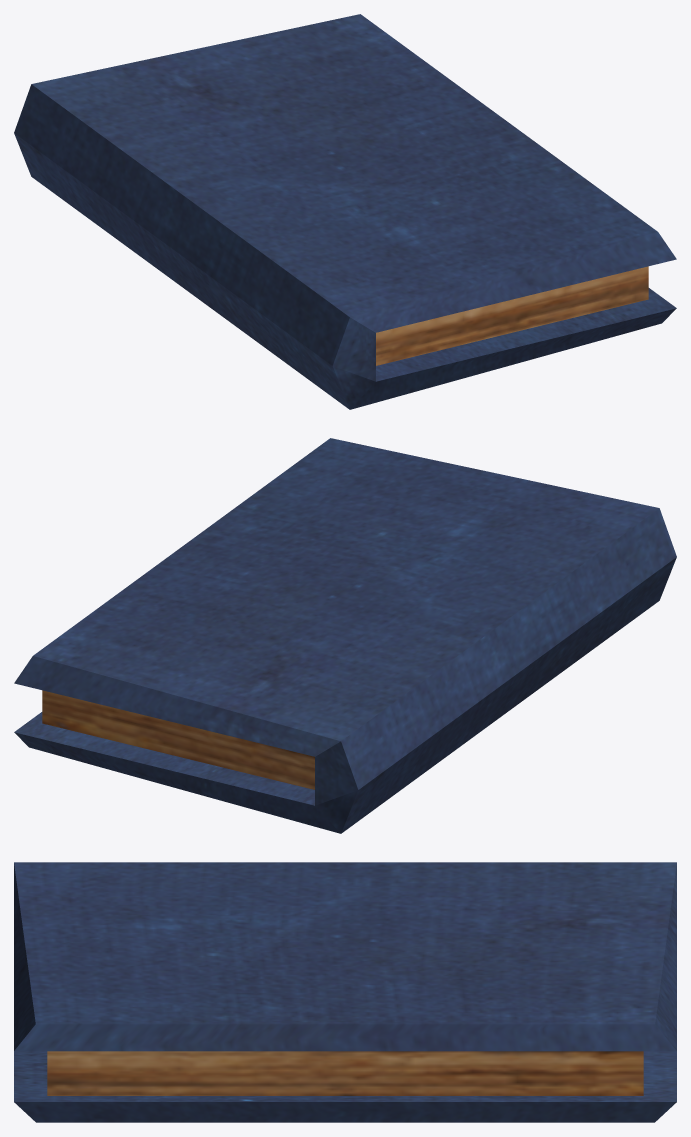
The model's file is bookClosed01.fbx.
3 renders of one model, top to bottom at view 1: azimuth 30°, elevation 25°; view 2: azimuth 150°, elevation 25°; view 3: azimuth 270°, elevation 25°, orthographic. The views are drawn at different scales.
Parts seen in each view (by area): view 1: pCube9; view 2: pCube9; view 3: pCube9.
Part boxes in pixels (x1=…): pCube9: x1=14, y1=14, x2=676, y2=409; pCube9: x1=14, y1=438, x2=676, y2=833; pCube9: x1=14, y1=862, x2=676, y2=1122.
Size of the model in its own units: 29.99 by 7.71 by 48.06.
